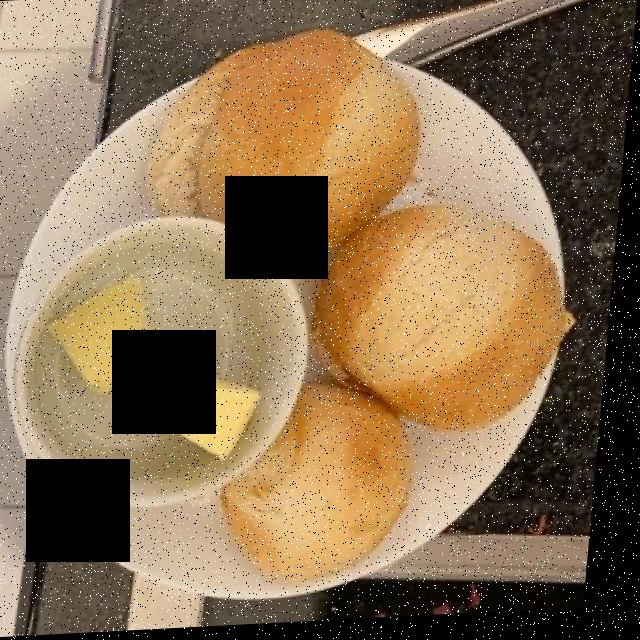bread-white: (159, 70, 571, 545)
butter: (59, 271, 266, 462)
